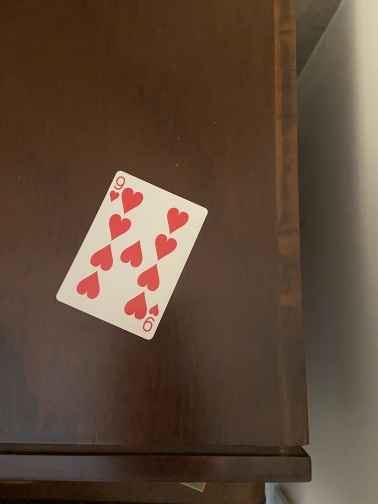nine: (54, 168, 210, 342)
